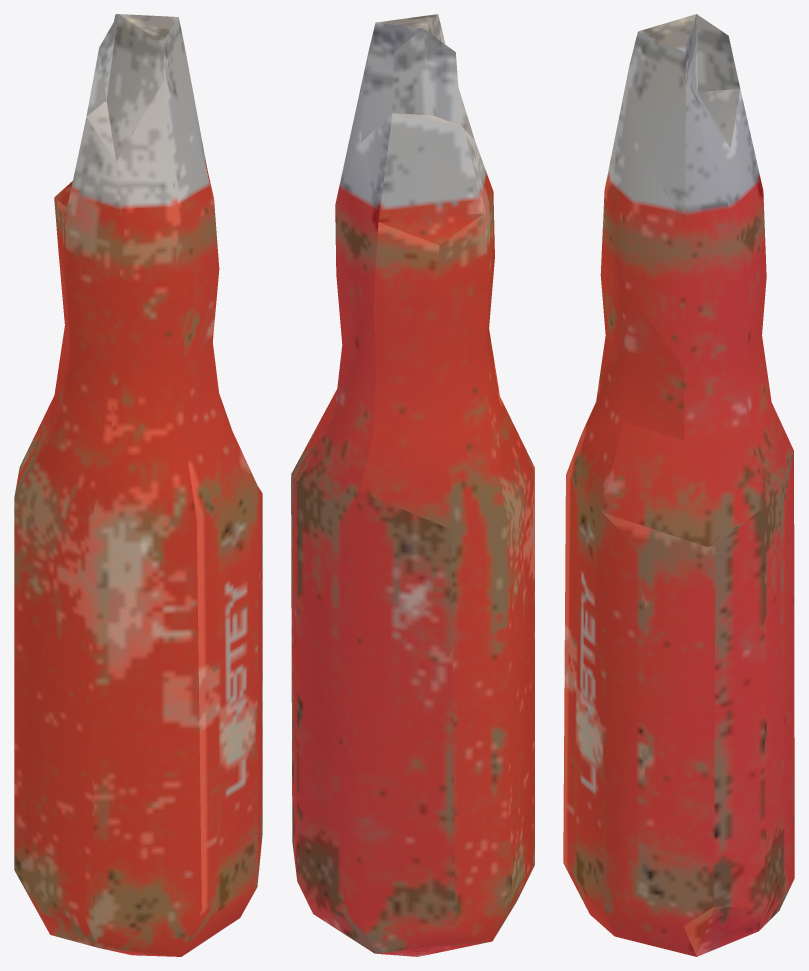
File: screwdriver.glb
The picture shows the model from 3 angles, left to right: view 1: azimuth 30°, elevation 25°; view 2: azimuth 150°, elevation 25°; view 3: azimuth 270°, elevation 25°; orthographic projection.
Parts seen in each view (by area): view 1: mesh; view 2: mesh; view 3: mesh.
Part boxes in pixels (x1=…): mesh: x1=14, y1=14, x2=262, y2=956; mesh: x1=291, y1=14, x2=534, y2=956; mesh: x1=563, y1=14, x2=794, y2=956.
Size of the model in its own units: 0.0519 by 0.209 by 0.0471.
1 material, 1 textured.
